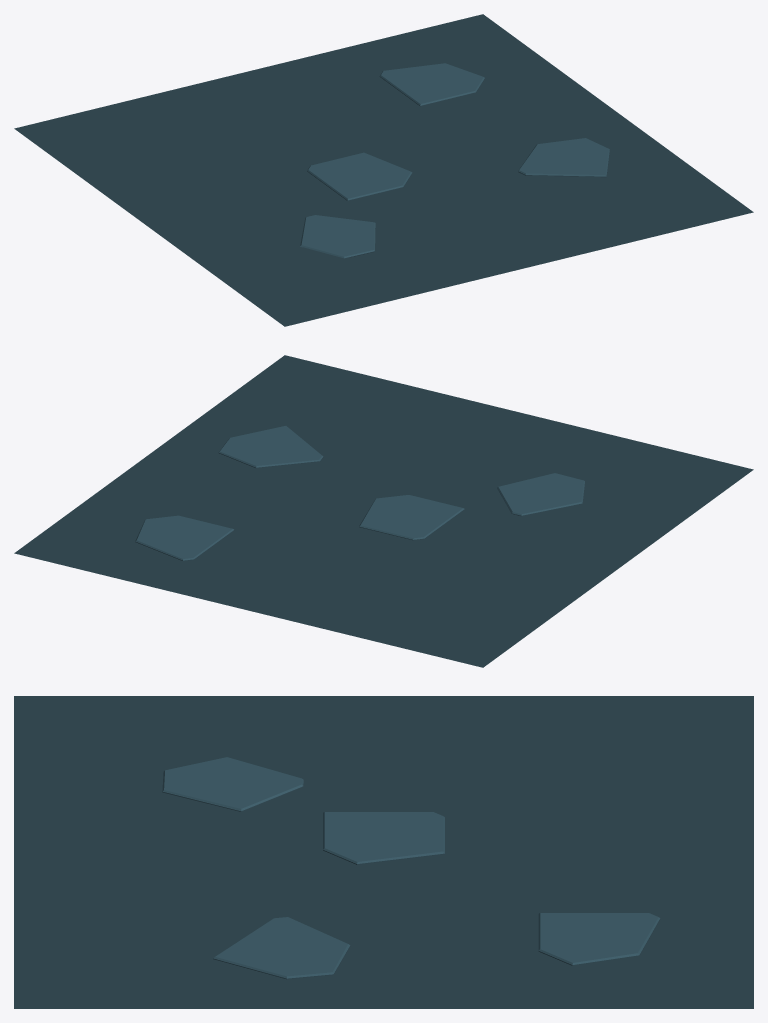
Rendered from Floor.fbx.
3 renders of one model, top to bottom at view 1: azimuth 30°, elevation 25°; view 2: azimuth 150°, elevation 25°; view 3: azimuth 270°, elevation 25°, orthographic. The views are drawn at different scales.
Parts seen in each view (by area): view 1: Floor; view 2: Floor; view 3: Floor.
Boxes of the visible parts, box(x1,y1,x2,y2) form: Floor: box(14, 14, 753, 326); Floor: box(14, 355, 753, 667); Floor: box(14, 696, 753, 1008).
Size of the model in its own units: 20000 by 96.58 by 20000.
